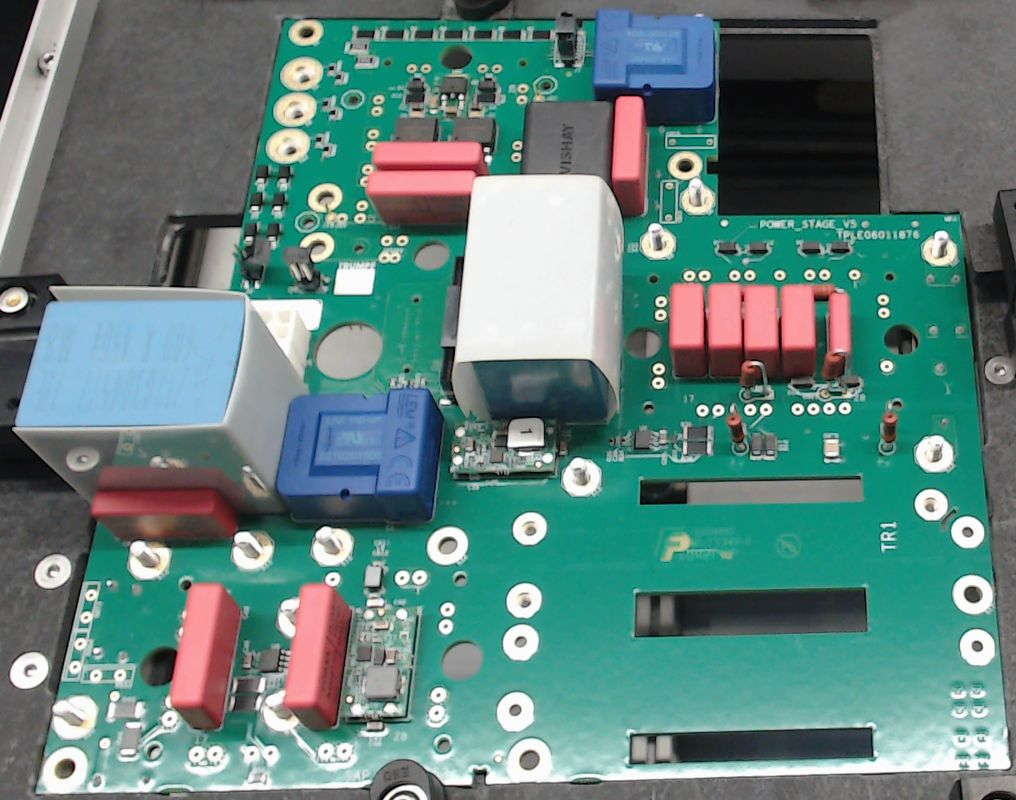comp1: (277, 385, 445, 524), (592, 8, 715, 124)
comp2: (168, 584, 241, 729), (287, 584, 352, 730), (86, 488, 237, 542), (367, 168, 475, 225), (612, 95, 650, 218), (740, 283, 778, 383), (667, 279, 704, 377), (705, 280, 742, 377), (370, 140, 487, 168), (781, 283, 815, 377), (825, 289, 848, 361)
comp3: (523, 98, 615, 180)
comp4: (10, 286, 307, 515), (451, 176, 625, 424)
